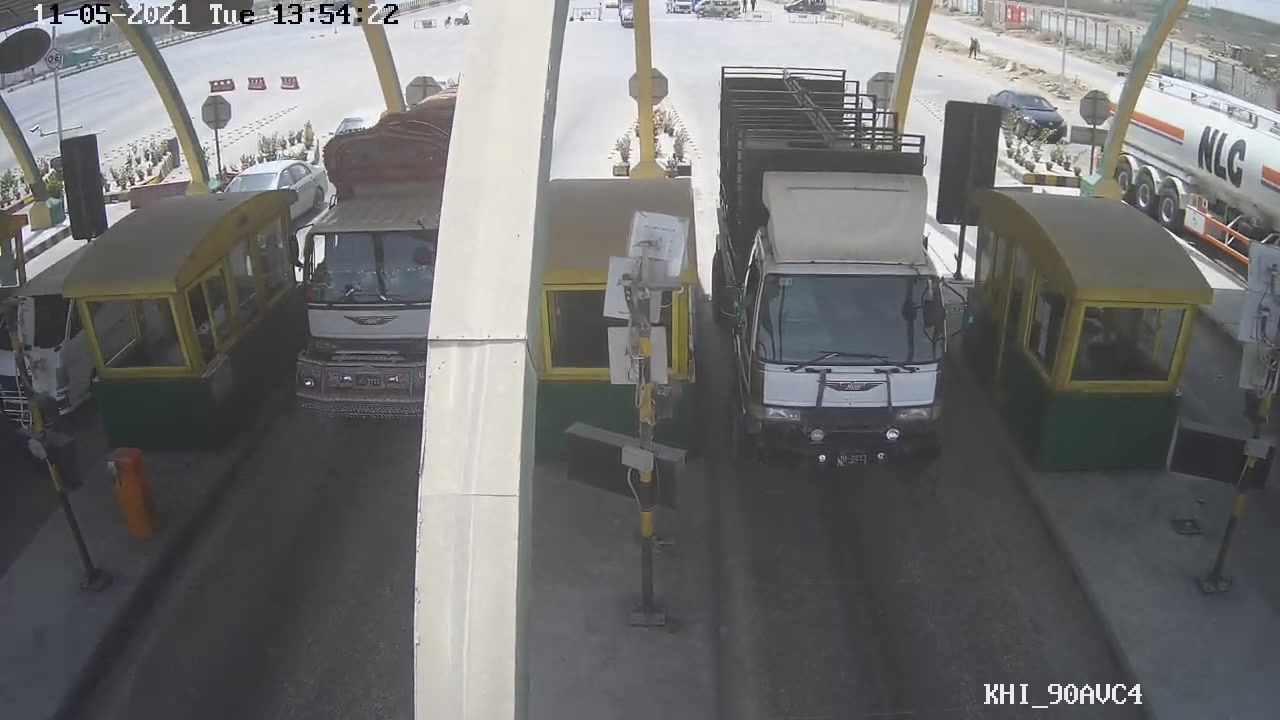F5: (695, 68, 974, 472)
